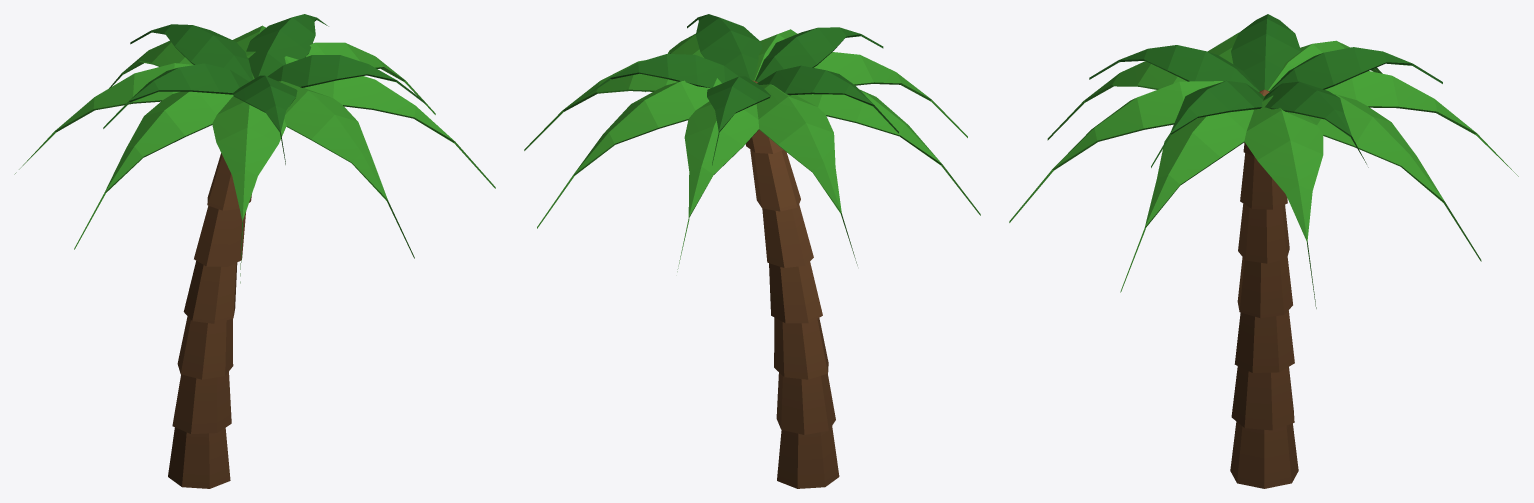
Rendered from palm_src.glb.
3 renders of one model, left to right at view 1: azimuth 30°, elevation 25°; view 2: azimuth 150°, elevation 25°; view 3: azimuth 270°, elevation 25°, orthographic. The views are drawn at different scales.
Visible parts, largest first — view 1: bench_palm; view 2: bench_palm; view 3: bench_palm.
Part boxes in pixels (bbox=[...]): bench_palm: bbox=[14, 14, 495, 488]; bench_palm: bbox=[524, 14, 980, 488]; bench_palm: bbox=[1009, 14, 1518, 488].
Bounding box in the file's own units: 4.12 × 3.96 × 4.12.
Materials: 1 (1 with a texture image).
